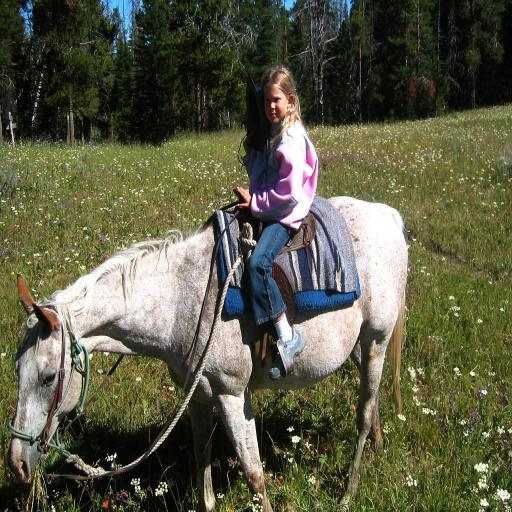Horse: (8, 196, 408, 511)
